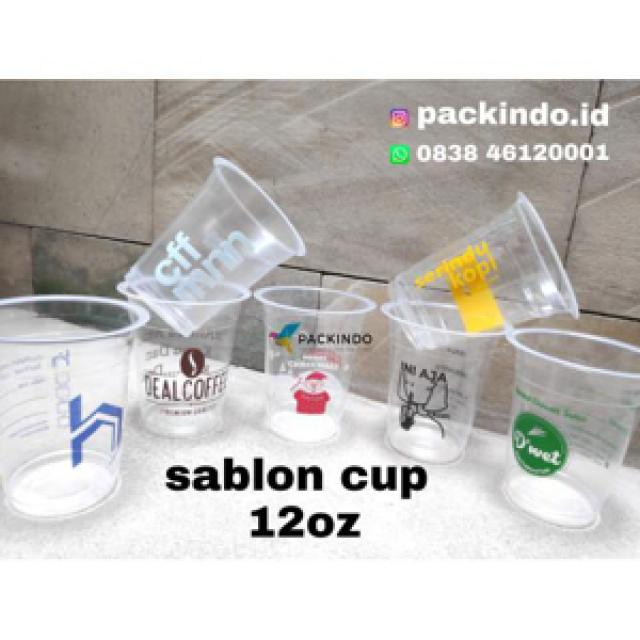plastic cup: (2, 286, 156, 533), (126, 154, 311, 339), (384, 186, 587, 354), (495, 326, 640, 534), (375, 290, 512, 469), (113, 275, 254, 448), (252, 280, 382, 452)
